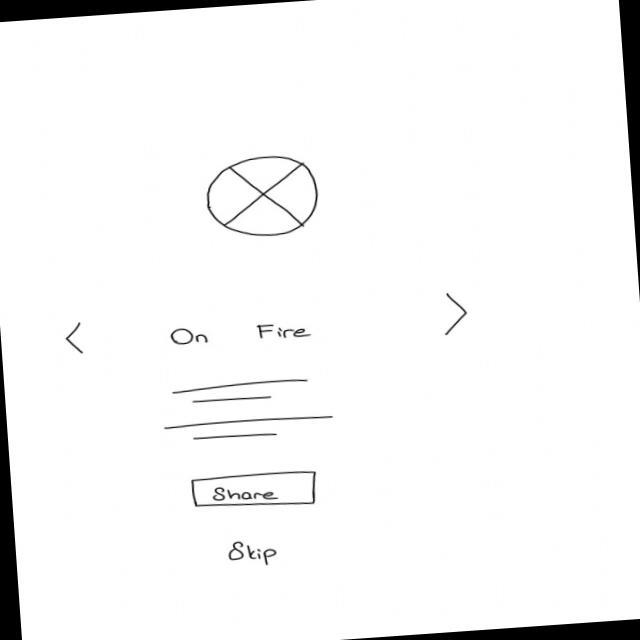button: (191, 470, 321, 514)
image: (202, 153, 324, 243)
label: (224, 537, 282, 571)
link: (63, 288, 472, 367)
textbox: (158, 374, 337, 448)
